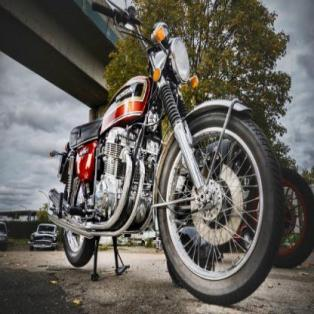Motocicleta: (42, 2, 275, 305)
